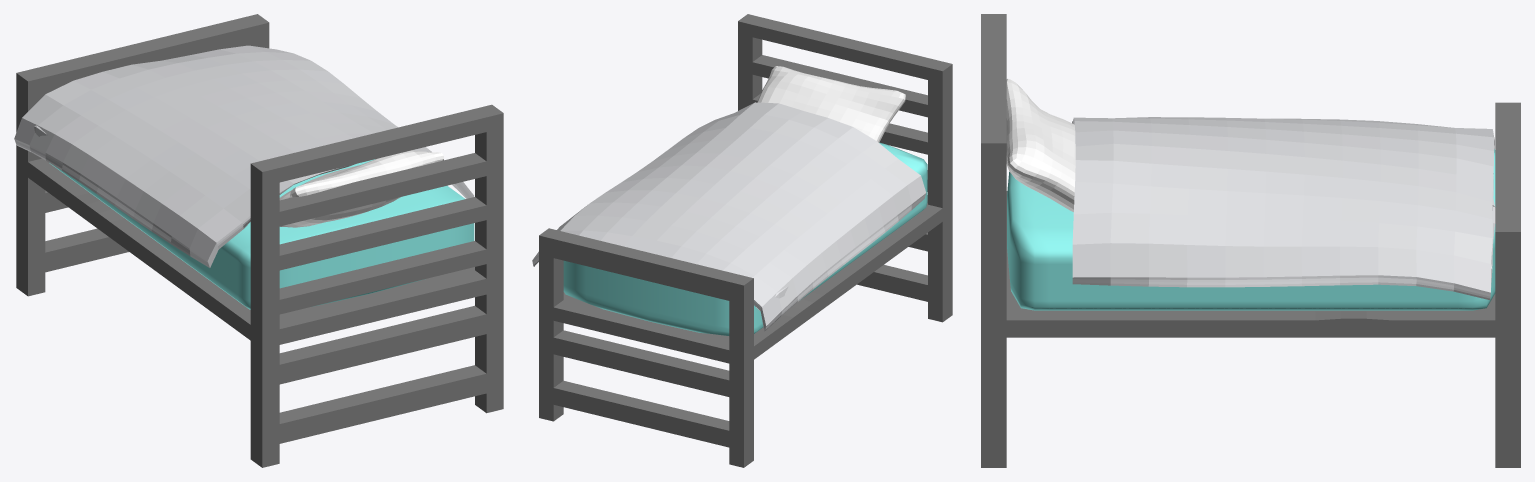
File: Hospital_Bed.fbx
3 views of the same model, side by side, from view 1: azimuth 30°, elevation 25°; view 2: azimuth 150°, elevation 25°; view 3: azimuth 270°, elevation 25° (orthographic). The views are drawn at different scales.
Visible parts, largest first — view 1: Cube, Plane.001, Cube.001, Plane; view 2: Cube, Plane.001, Cube.001, Plane; view 3: Plane.001, Cube, Cube.001, Plane.
Boxes of the visible parts, left/top/right/bottom form: Cube: left=16, top=14, right=503, bottom=467; Plane.001: left=14, top=45, right=474, bottom=267; Cube.001: left=49, top=159, right=474, bottom=309; Plane: left=279, top=150, right=443, bottom=227; Cube: left=539, top=14, right=952, bottom=467; Plane.001: left=532, top=102, right=926, bottom=331; Cube.001: left=563, top=142, right=927, bottom=335; Plane: left=757, top=66, right=905, bottom=142; Plane.001: left=1072, top=117, right=1495, bottom=299; Cube: left=981, top=14, right=1520, bottom=467; Cube.001: left=1007, top=149, right=1495, bottom=310; Plane: left=1006, top=79, right=1075, bottom=211.
Size of the model in its own units: 501 by 498 by 751.
